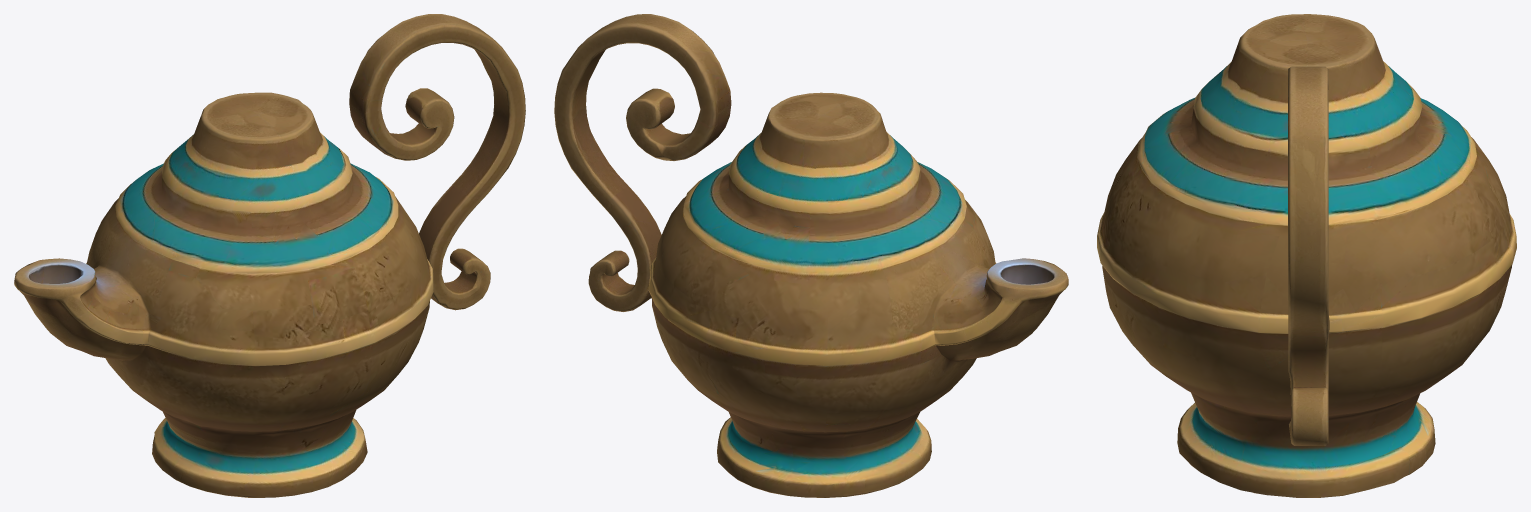
Rendered from lamp.glb.
3 renders of one model, left to right at view 1: azimuth 30°, elevation 25°; view 2: azimuth 150°, elevation 25°; view 3: azimuth 270°, elevation 25°, orthographic. The views are drawn at different scales.
Size of the model in its own units: 1.34 by 1 by 0.8155.
1 material, 1 textured.
